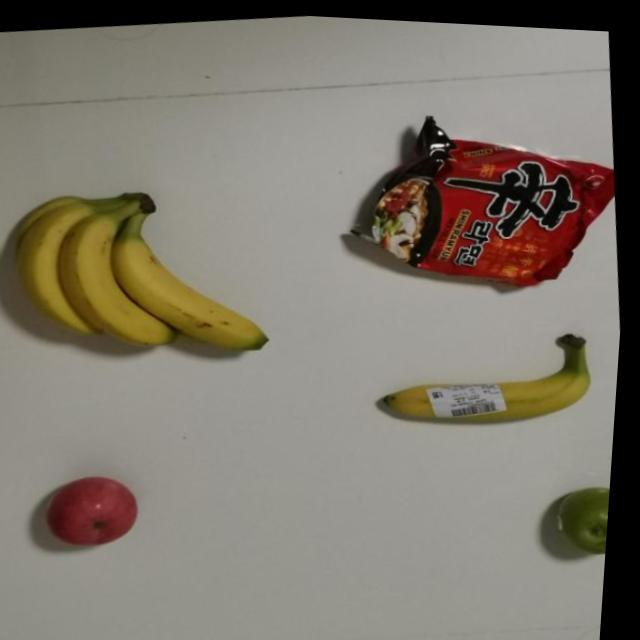Apple: (41, 462, 158, 556), (548, 469, 617, 553)
Banana: (0, 165, 281, 386), (356, 313, 624, 431)
